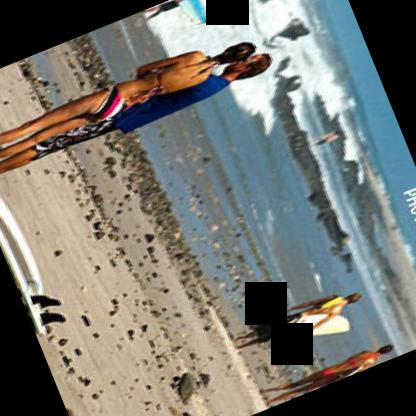handbag: (248, 310, 281, 329)
